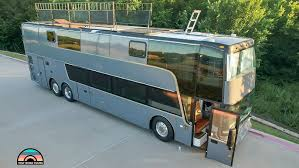bus: (19, 17, 258, 149)
